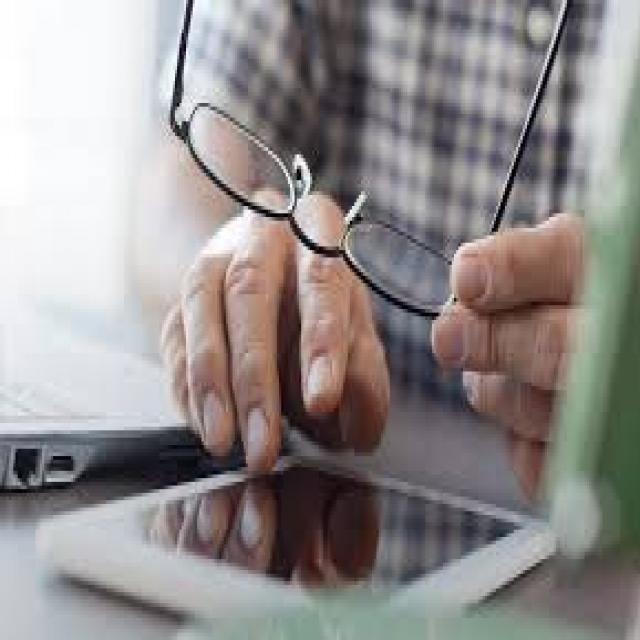glasses: (141, 0, 613, 371)
